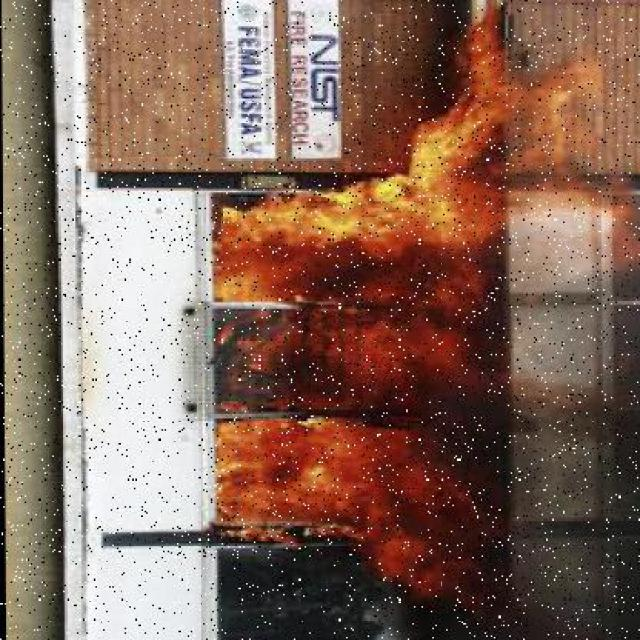fire: (215, 47, 606, 536)
